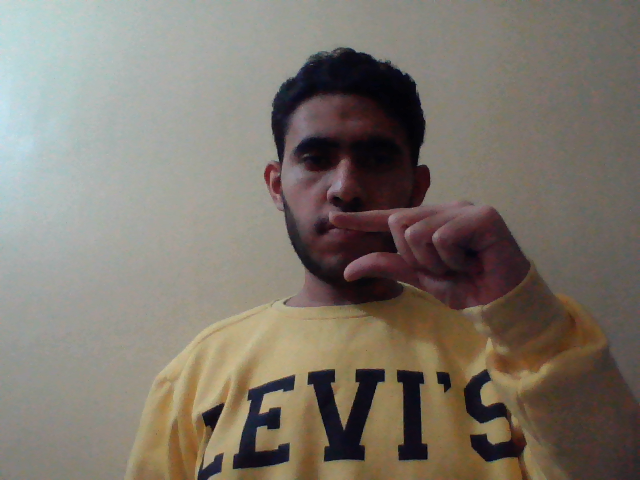G: (327, 200, 545, 327)
